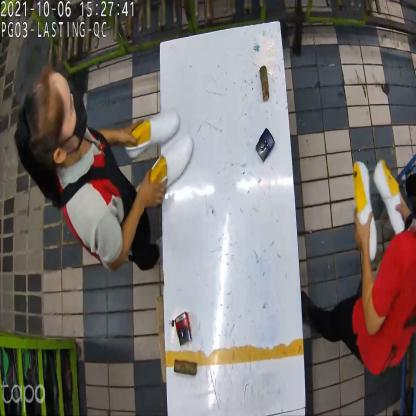shoes: (124, 108, 193, 201), (352, 160, 410, 262)
stamp: (173, 312, 195, 344), (254, 127, 274, 162)
